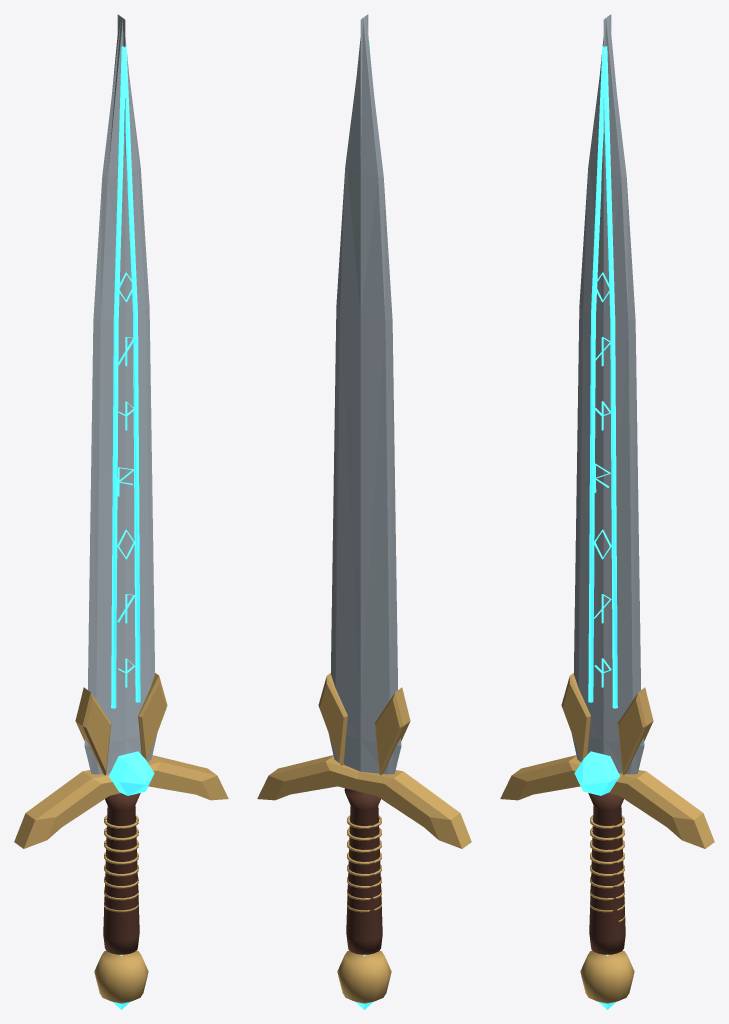
File: iron-sword-legendary-high.glb
3 views of the same model, side by side, from view 1: azimuth 30°, elevation 25°; view 2: azimuth 150°, elevation 25°; view 3: azimuth 330°, elevation 25° (orthographic).
Parts seen in each view (by area): view 1: iron-sword__legendary; view 2: iron-sword__legendary; view 3: iron-sword__legendary.
Part boxes in pixels (left/top/right/bottom): iron-sword__legendary: left=14, top=14, right=228, bottom=1009; iron-sword__legendary: left=257, top=14, right=471, bottom=1009; iron-sword__legendary: left=500, top=14, right=714, bottom=1009.
Bounding box in the file's own units: 0.27 × 1.25 × 0.0882.
